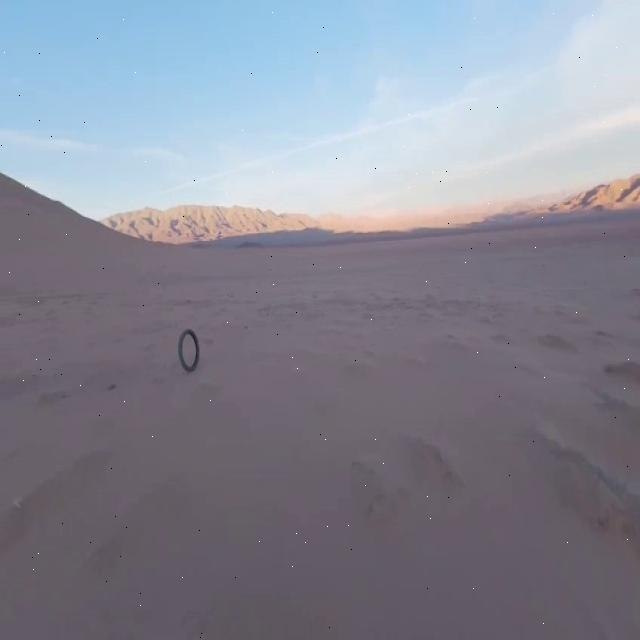Tire: (178, 329, 198, 371)
